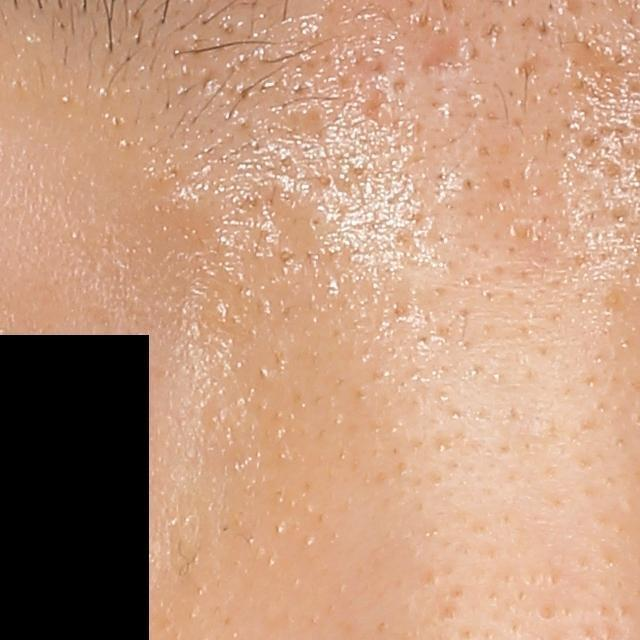atrophic_scar: (416, 32, 474, 82), (358, 90, 390, 125)
